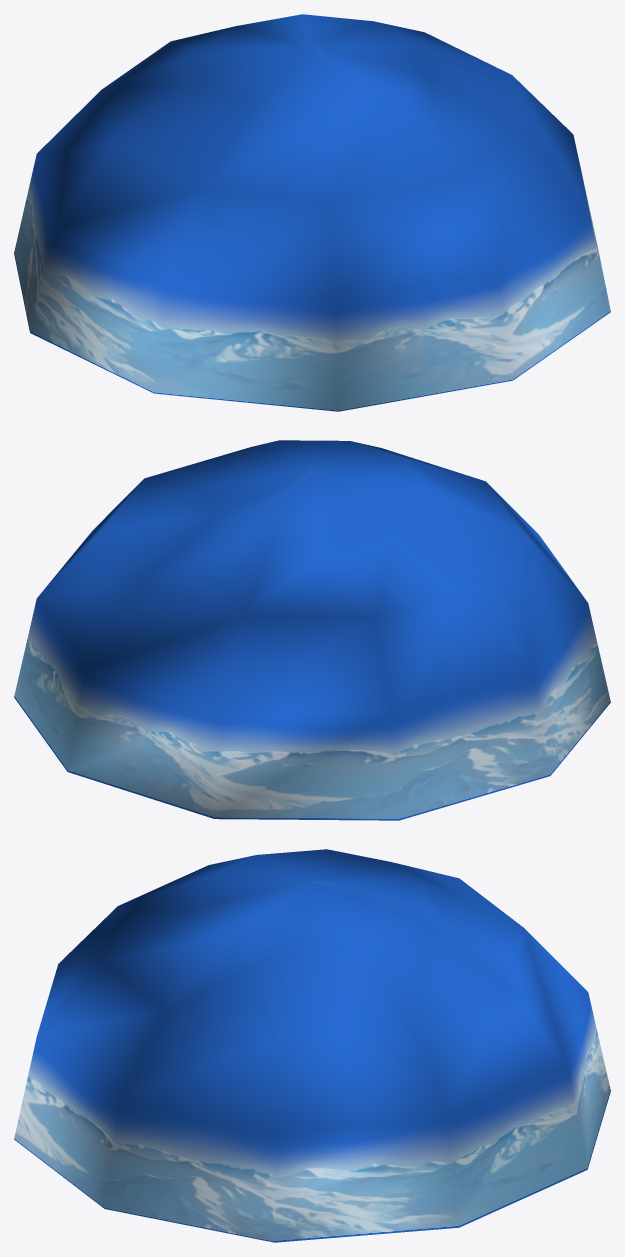
The model's file is sky_snow.FBX.
3 renders of one model, top to bottom at view 1: azimuth 30°, elevation 25°; view 2: azimuth 150°, elevation 25°; view 3: azimuth 270°, elevation 25°, orthographic. The views are drawn at different scales.
Visible parts, largest first — view 1: SkyBox; view 2: SkyBox; view 3: SkyBox.
Boxes of the visible parts, x1,y1,x2,y2 form: SkyBox: (14, 14, 610, 411); SkyBox: (14, 440, 610, 820); SkyBox: (14, 849, 610, 1242).
Size of the model in its own units: 335773 by 143483 by 332322.
